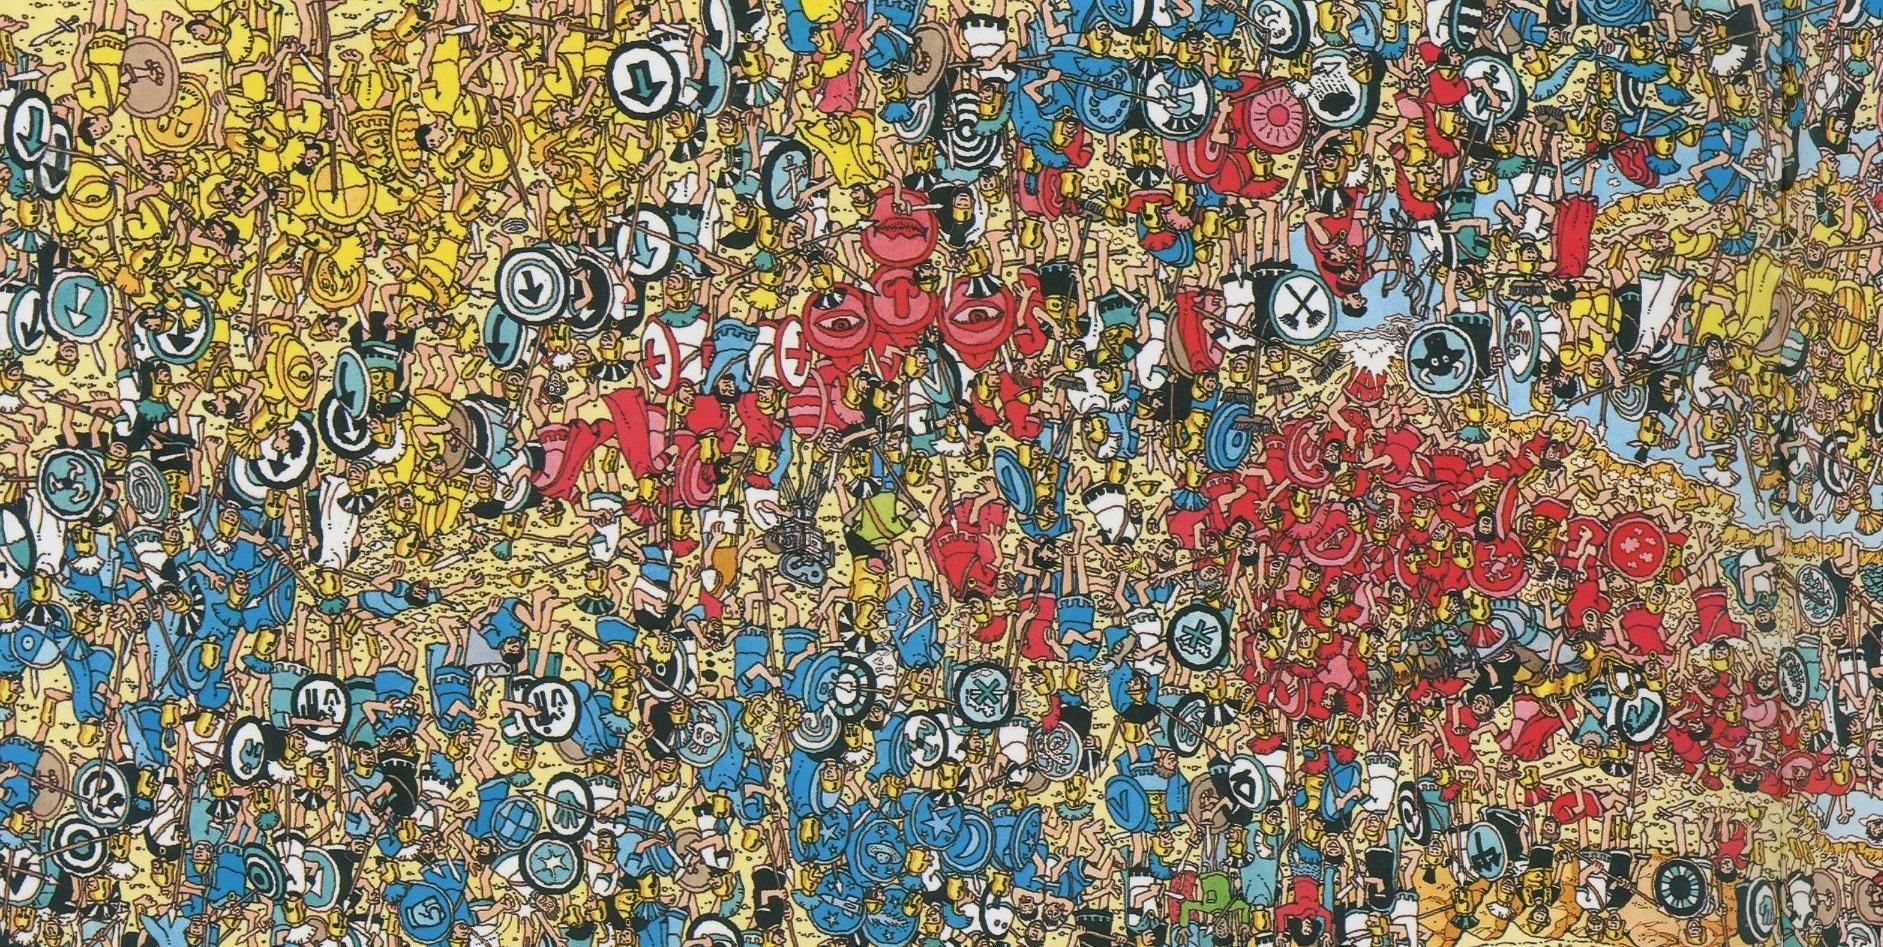waldos: (529, 345, 569, 413)
